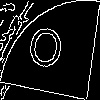O: (24, 25, 66, 78)
